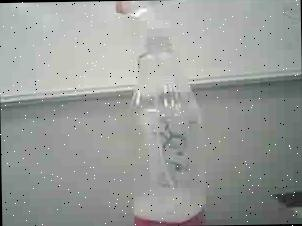hazard: (112, 0, 211, 226)
